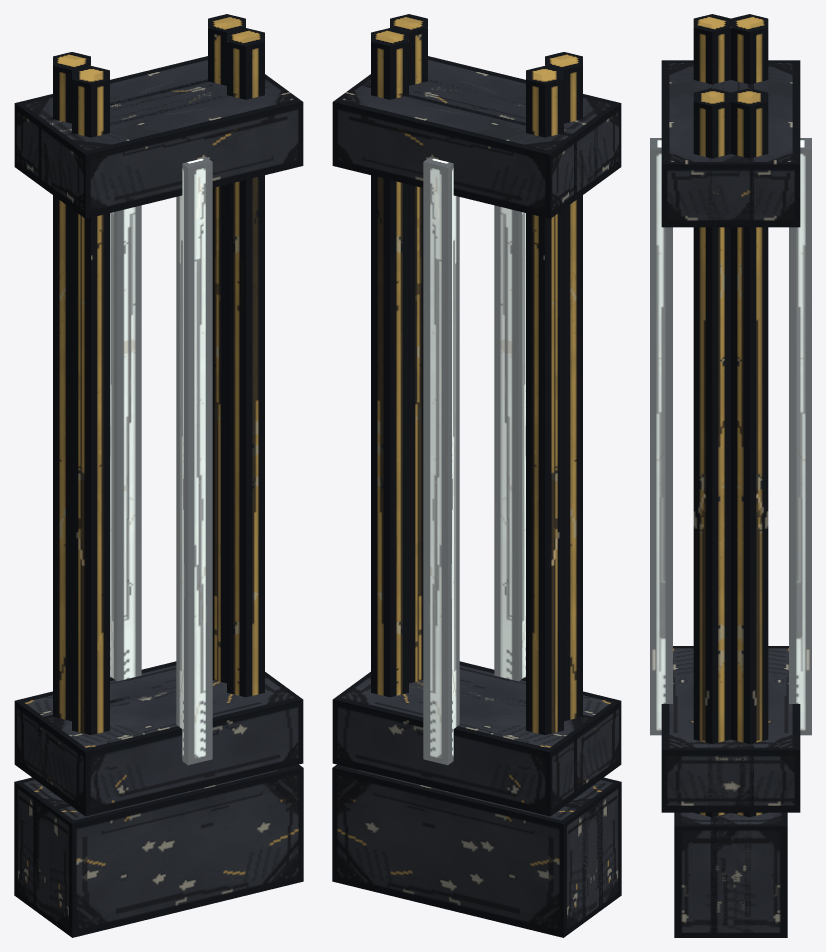
The model's file is accessory_monofilament_honing.glb.
3 renders of one model, left to right at view 1: azimuth 30°, elevation 25°; view 2: azimuth 150°, elevation 25°; view 3: azimuth 270°, elevation 25°, orthographic. The views are drawn at different scales.
Visible parts, largest first — view 1: FACE_FRONT, FACE_BACK; view 2: FACE_BACK, FACE_FRONT; view 3: FACE_FRONT, FACE_BACK.
Boxes of the visible parts, <box> form: FACE_FRONT: <box>14,28,303,918</box>; FACE_BACK: <box>14,14,303,937</box>; FACE_BACK: <box>332,28,621,923</box>; FACE_FRONT: <box>332,14,621,937</box>; FACE_FRONT: <box>650,14,787,937</box>; FACE_BACK: <box>674,14,811,937</box>.
Size of the model in its own units: 0.17 by 0.59 by 0.1052.
2 materials, 2 textured.
